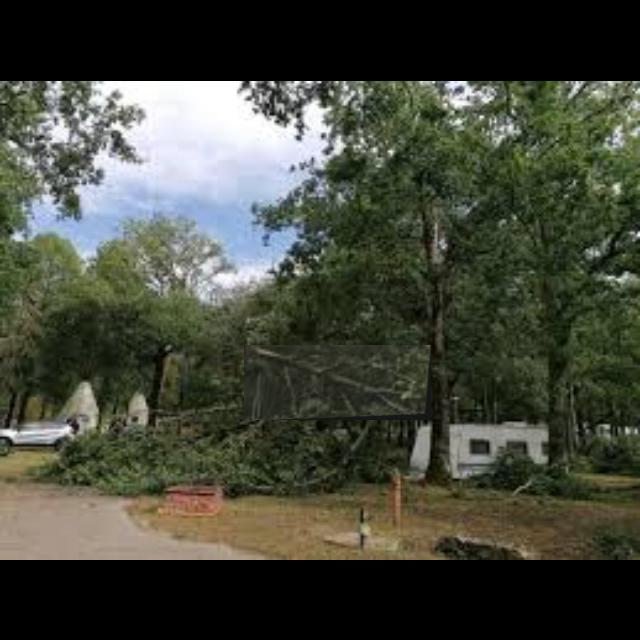Fallen Tree: (244, 345, 432, 421)
